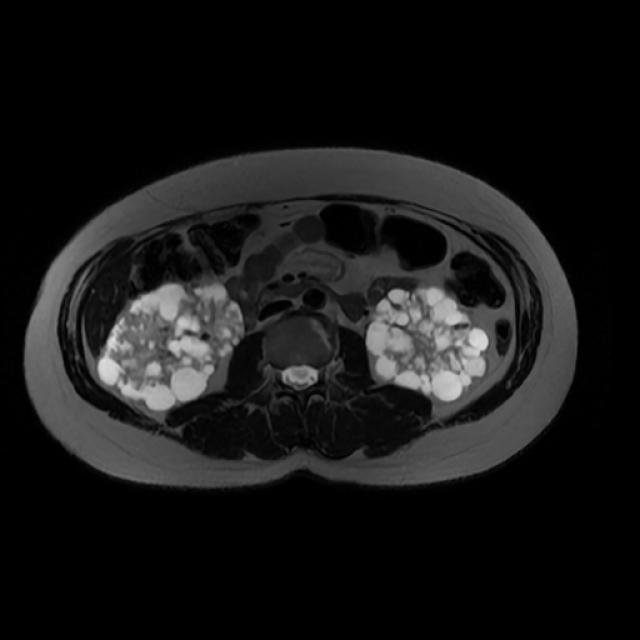sag: (96, 280, 246, 410)
sol: (365, 287, 490, 402)
